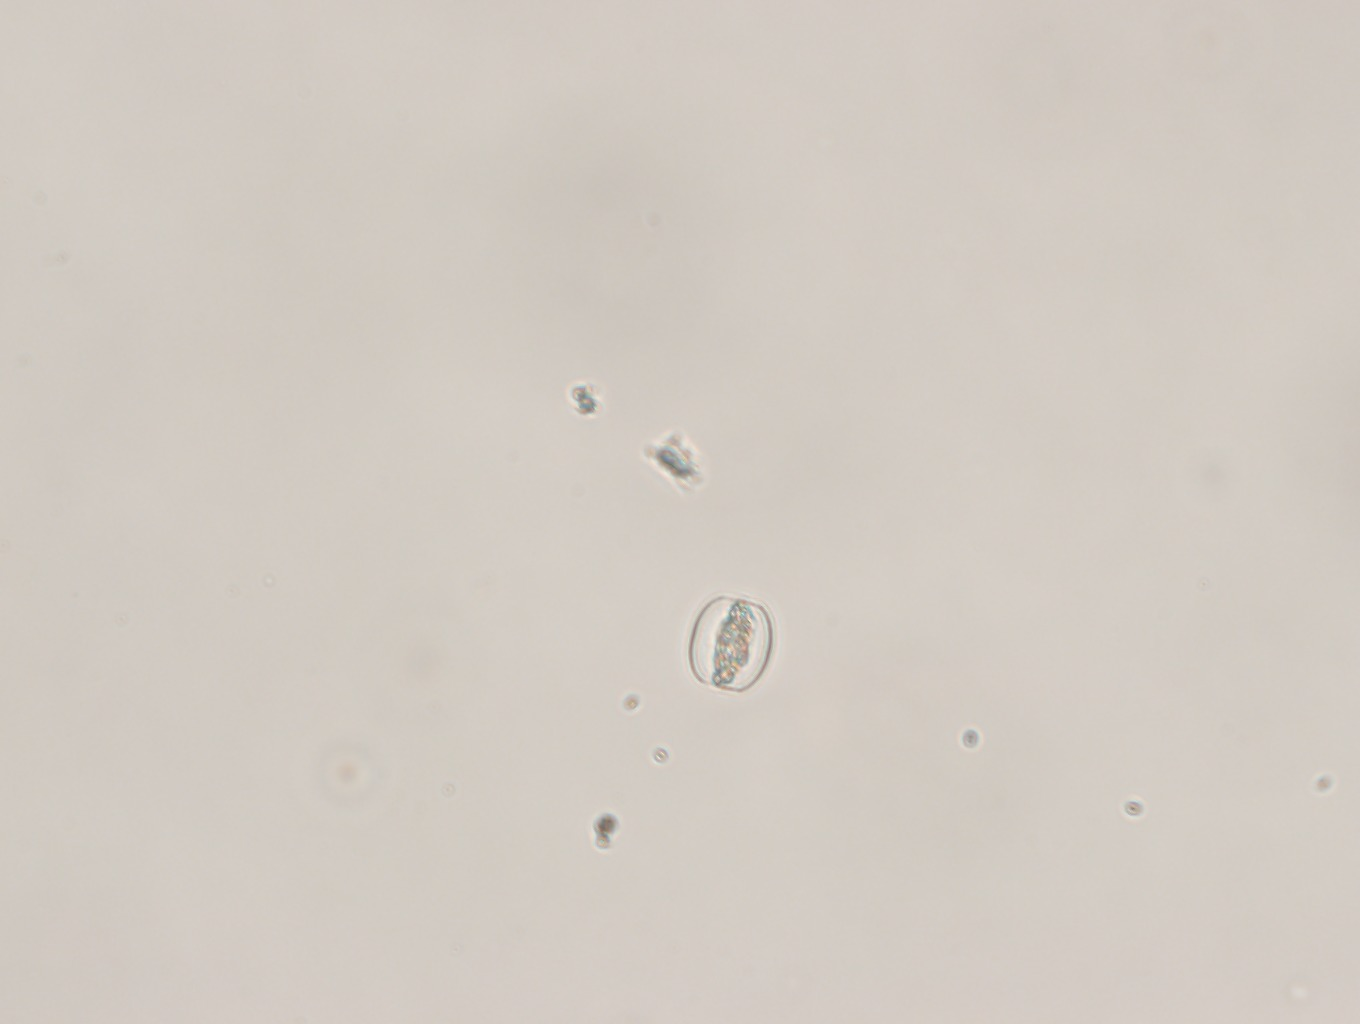coscinodiscus flank: (688, 598, 770, 694)
